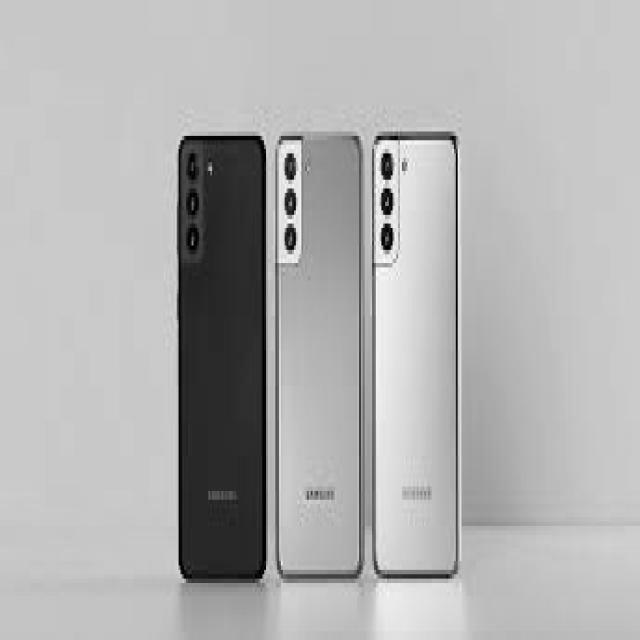fake: (370, 128, 462, 580)
